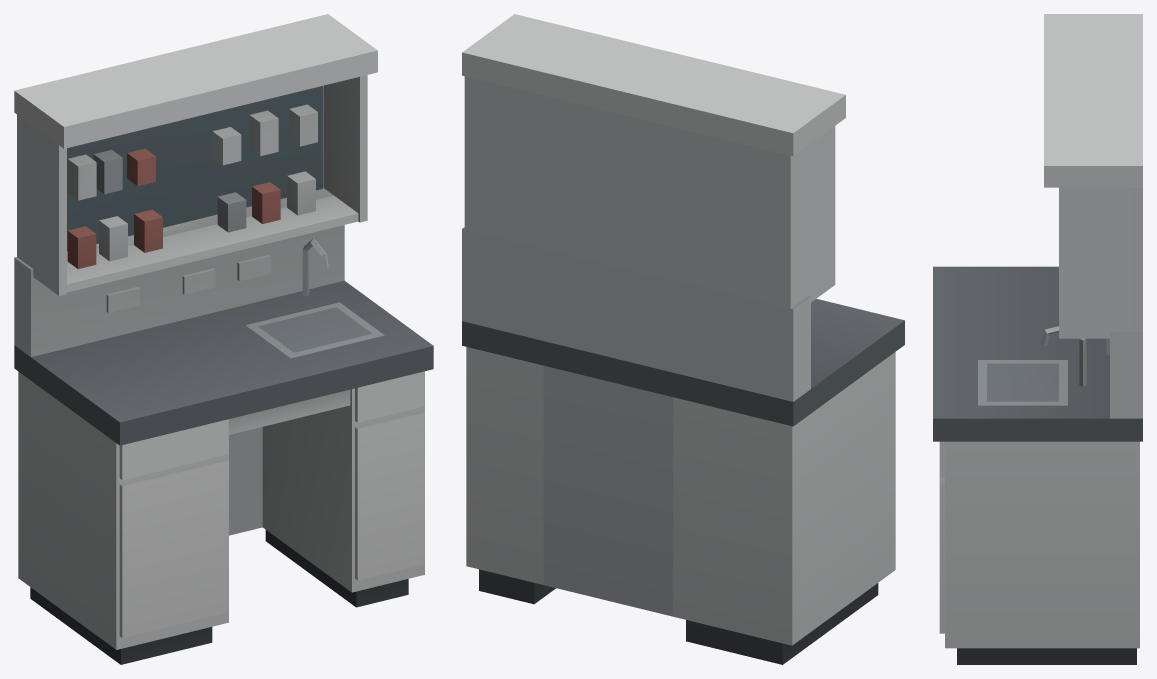
File: wallbench.lod1.glb
3 renders of one model, left to right at view 1: azimuth 30°, elevation 25°; view 2: azimuth 150°, elevation 25°; view 3: azimuth 270°, elevation 25°, orthographic. The views are drawn at different scales.
Size of the model in its own units: 1.2 by 1.86 by 0.7.
